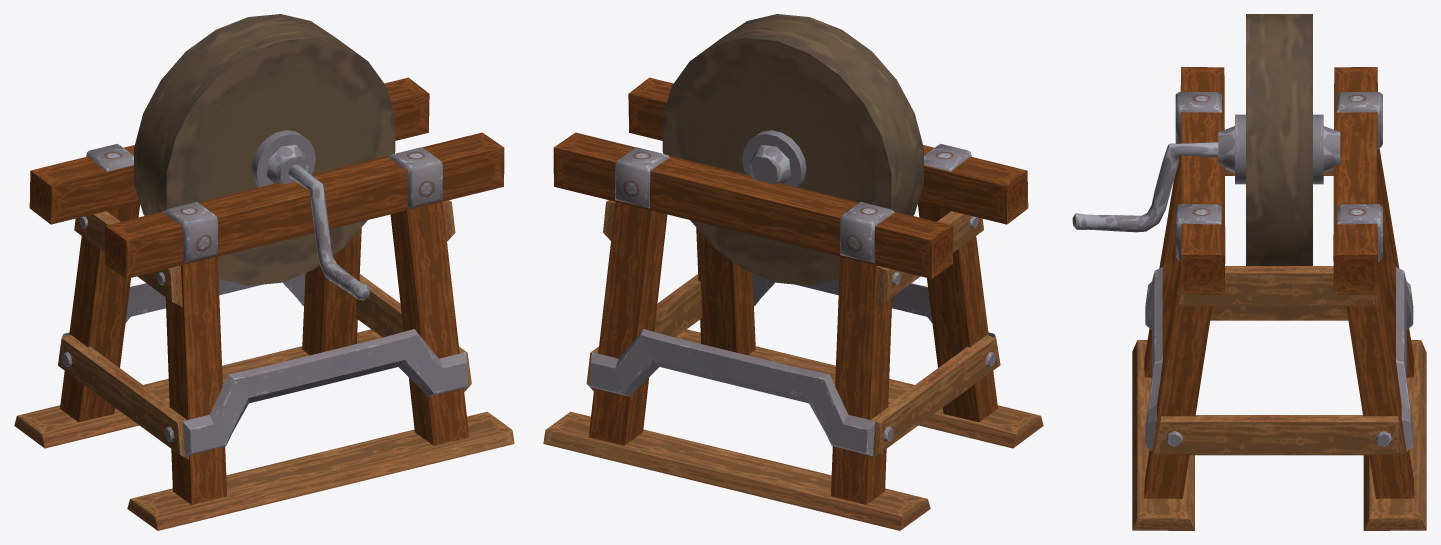
The model's file is whetstone.gltf.
The picture shows the model from 3 angles, left to right: view 1: azimuth 30°, elevation 25°; view 2: azimuth 150°, elevation 25°; view 3: azimuth 270°, elevation 25°; orthographic projection. The views are drawn at different scales.
Visible parts, largest first — view 1: Whetstone; view 2: Whetstone; view 3: Whetstone.
Part boxes in pixels (x1,y1,x2,y2): Whetstone: (14,14,514,530); Whetstone: (543,14,1043,530); Whetstone: (1072,14,1426,530).
Size of the model in its own units: 1.14 by 1.17 by 0.9018.
3 materials, 3 textured.
